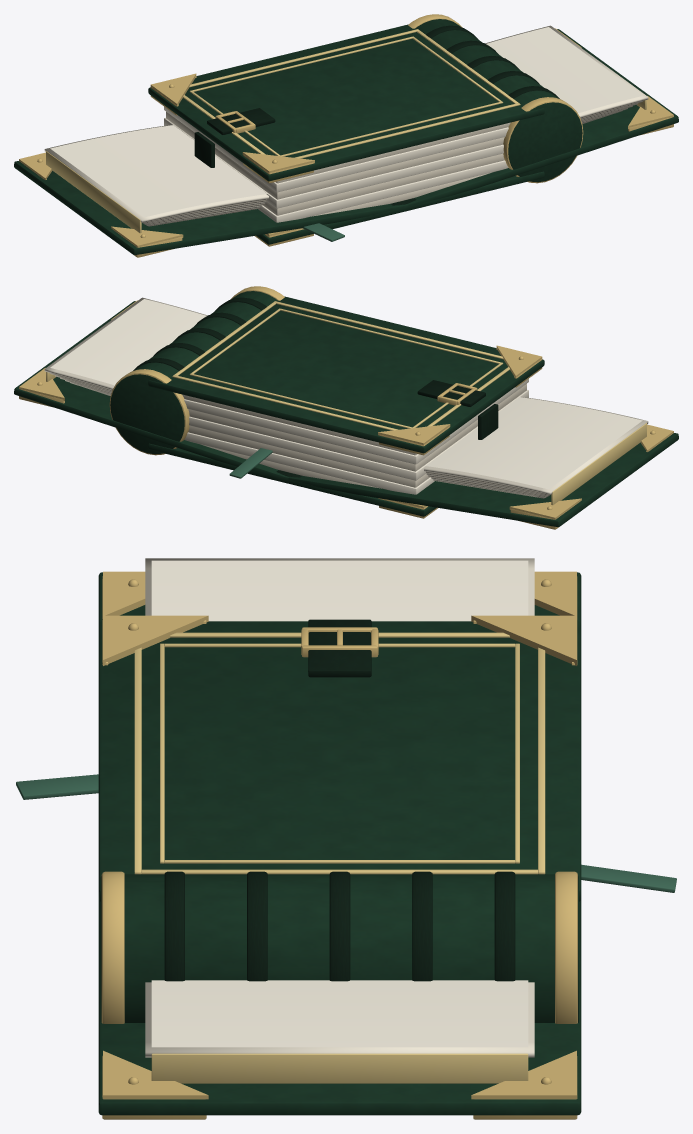
File: ledger_book.glb
3 views of the same model, one above another, from view 1: azimuth 30°, elevation 25°; view 2: azimuth 150°, elevation 25°; view 3: azimuth 270°, elevation 25° (orthographic). The views are drawn at different scales.
Visible parts, largest first — view 1: LB_CoverFrontBody, LB_ClosedBody, LB_FaceL, LB_OpenCovers, LB_FaceR, LB_OpenPages, LB_ClaspTongue, LB_CapFrontA_plate, LB_BorderOuter_n, LB_OpenCapLA_plate, LB_BorderOuter_s, LB_CapFrontB_plate (+5 smaller); view 2: LB_CoverFrontBody, LB_ClosedBody, LB_FaceL, LB_OpenCovers, LB_FaceR, LB_OpenPages, LB_ClaspTongue, LB_CapFrontB_plate, LB_BorderOuter_s, LB_OpenCapLB_plate, LB_BorderOuter_n, LB_CapFrontA_plate (+5 smaller); view 3: LB_CoverFrontBody, LB_ClosedBody, LB_FaceR, LB_FaceL, LB_OpenCovers, LB_OpenPages, LB_ClaspTongue, LB_CapFrontB_plate, LB_CapFrontA_plate, LB_OpenCapRB_plate, LB_OpenCapRA_plate, LB_BorderOuter_e (+9 smaller).
Part boxes in pixels (left/top/right/bottom): LB_CoverFrontBody: left=148, top=24, right=544, bottom=181; LB_ClosedBody: left=164, top=14, right=583, bottom=244; LB_FaceL: left=50, top=125, right=266, bottom=217; LB_OpenCovers: left=14, top=29, right=678, bottom=255; LB_FaceR: left=486, top=27, right=642, bottom=113; LB_OpenPages: left=44, top=25, right=648, bottom=233; LB_ClaspTongue: left=207, top=108, right=275, bottom=134; LB_CapFrontA_plate: left=242, top=152, right=314, bottom=173; LB_BorderOuter_n: left=189, top=29, right=419, bottom=87; LB_OpenCapLA_plate: left=111, top=226, right=183, bottom=247; LB_BorderOuter_s: left=294, top=103, right=520, bottom=158; LB_CapFrontB_plate: left=150, top=73, right=196, bottom=106; LB_CoverFrontBody: left=148, top=296, right=544, bottom=453; LB_ClosedBody: left=109, top=286, right=528, bottom=516; LB_FaceL: left=426, top=397, right=642, bottom=489; LB_OpenCovers: left=14, top=301, right=678, bottom=527; LB_FaceR: left=50, top=299, right=206, bottom=385; LB_OpenPages: left=44, top=297, right=648, bottom=505; LB_ClaspTongue: left=417, top=380, right=485, bottom=406; LB_CapFrontB_plate: left=378, top=424, right=450, bottom=445; LB_BorderOuter_s: left=273, top=301, right=503, bottom=359; LB_OpenCapLB_plate: left=509, top=498, right=581, bottom=519; LB_BorderOuter_n: left=172, top=375, right=398, bottom=430; LB_CapFrontA_plate: left=496, top=345, right=542, bottom=378; LB_CoverFrontBody: left=98, top=621, right=581, bottom=901; LB_ClosedBody: left=16, top=774, right=578, bottom=1023; LB_FaceR: left=151, top=980, right=528, bottom=1047; LB_FaceL: left=151, top=560, right=528, bottom=621; LB_OpenCovers: left=98, top=572, right=581, bottom=1115; LB_OpenPages: left=145, top=558, right=676, bottom=1083; LB_ClaspTongue: left=308, top=619, right=371, bottom=677; LB_CapFrontB_plate: left=471, top=615, right=576, bottom=665; LB_CapFrontA_plate: left=103, top=615, right=208, bottom=665; LB_OpenCapRB_plate: left=471, top=1050, right=576, bottom=1099; LB_OpenCapRA_plate: left=103, top=1050, right=208, bottom=1099; LB_BorderOuter_e: left=141, top=869, right=537, bottom=874.
Bounding box in the file's own units: 0.5954 × 0.0845 × 0.3122.
8 materials, 2 textured.
